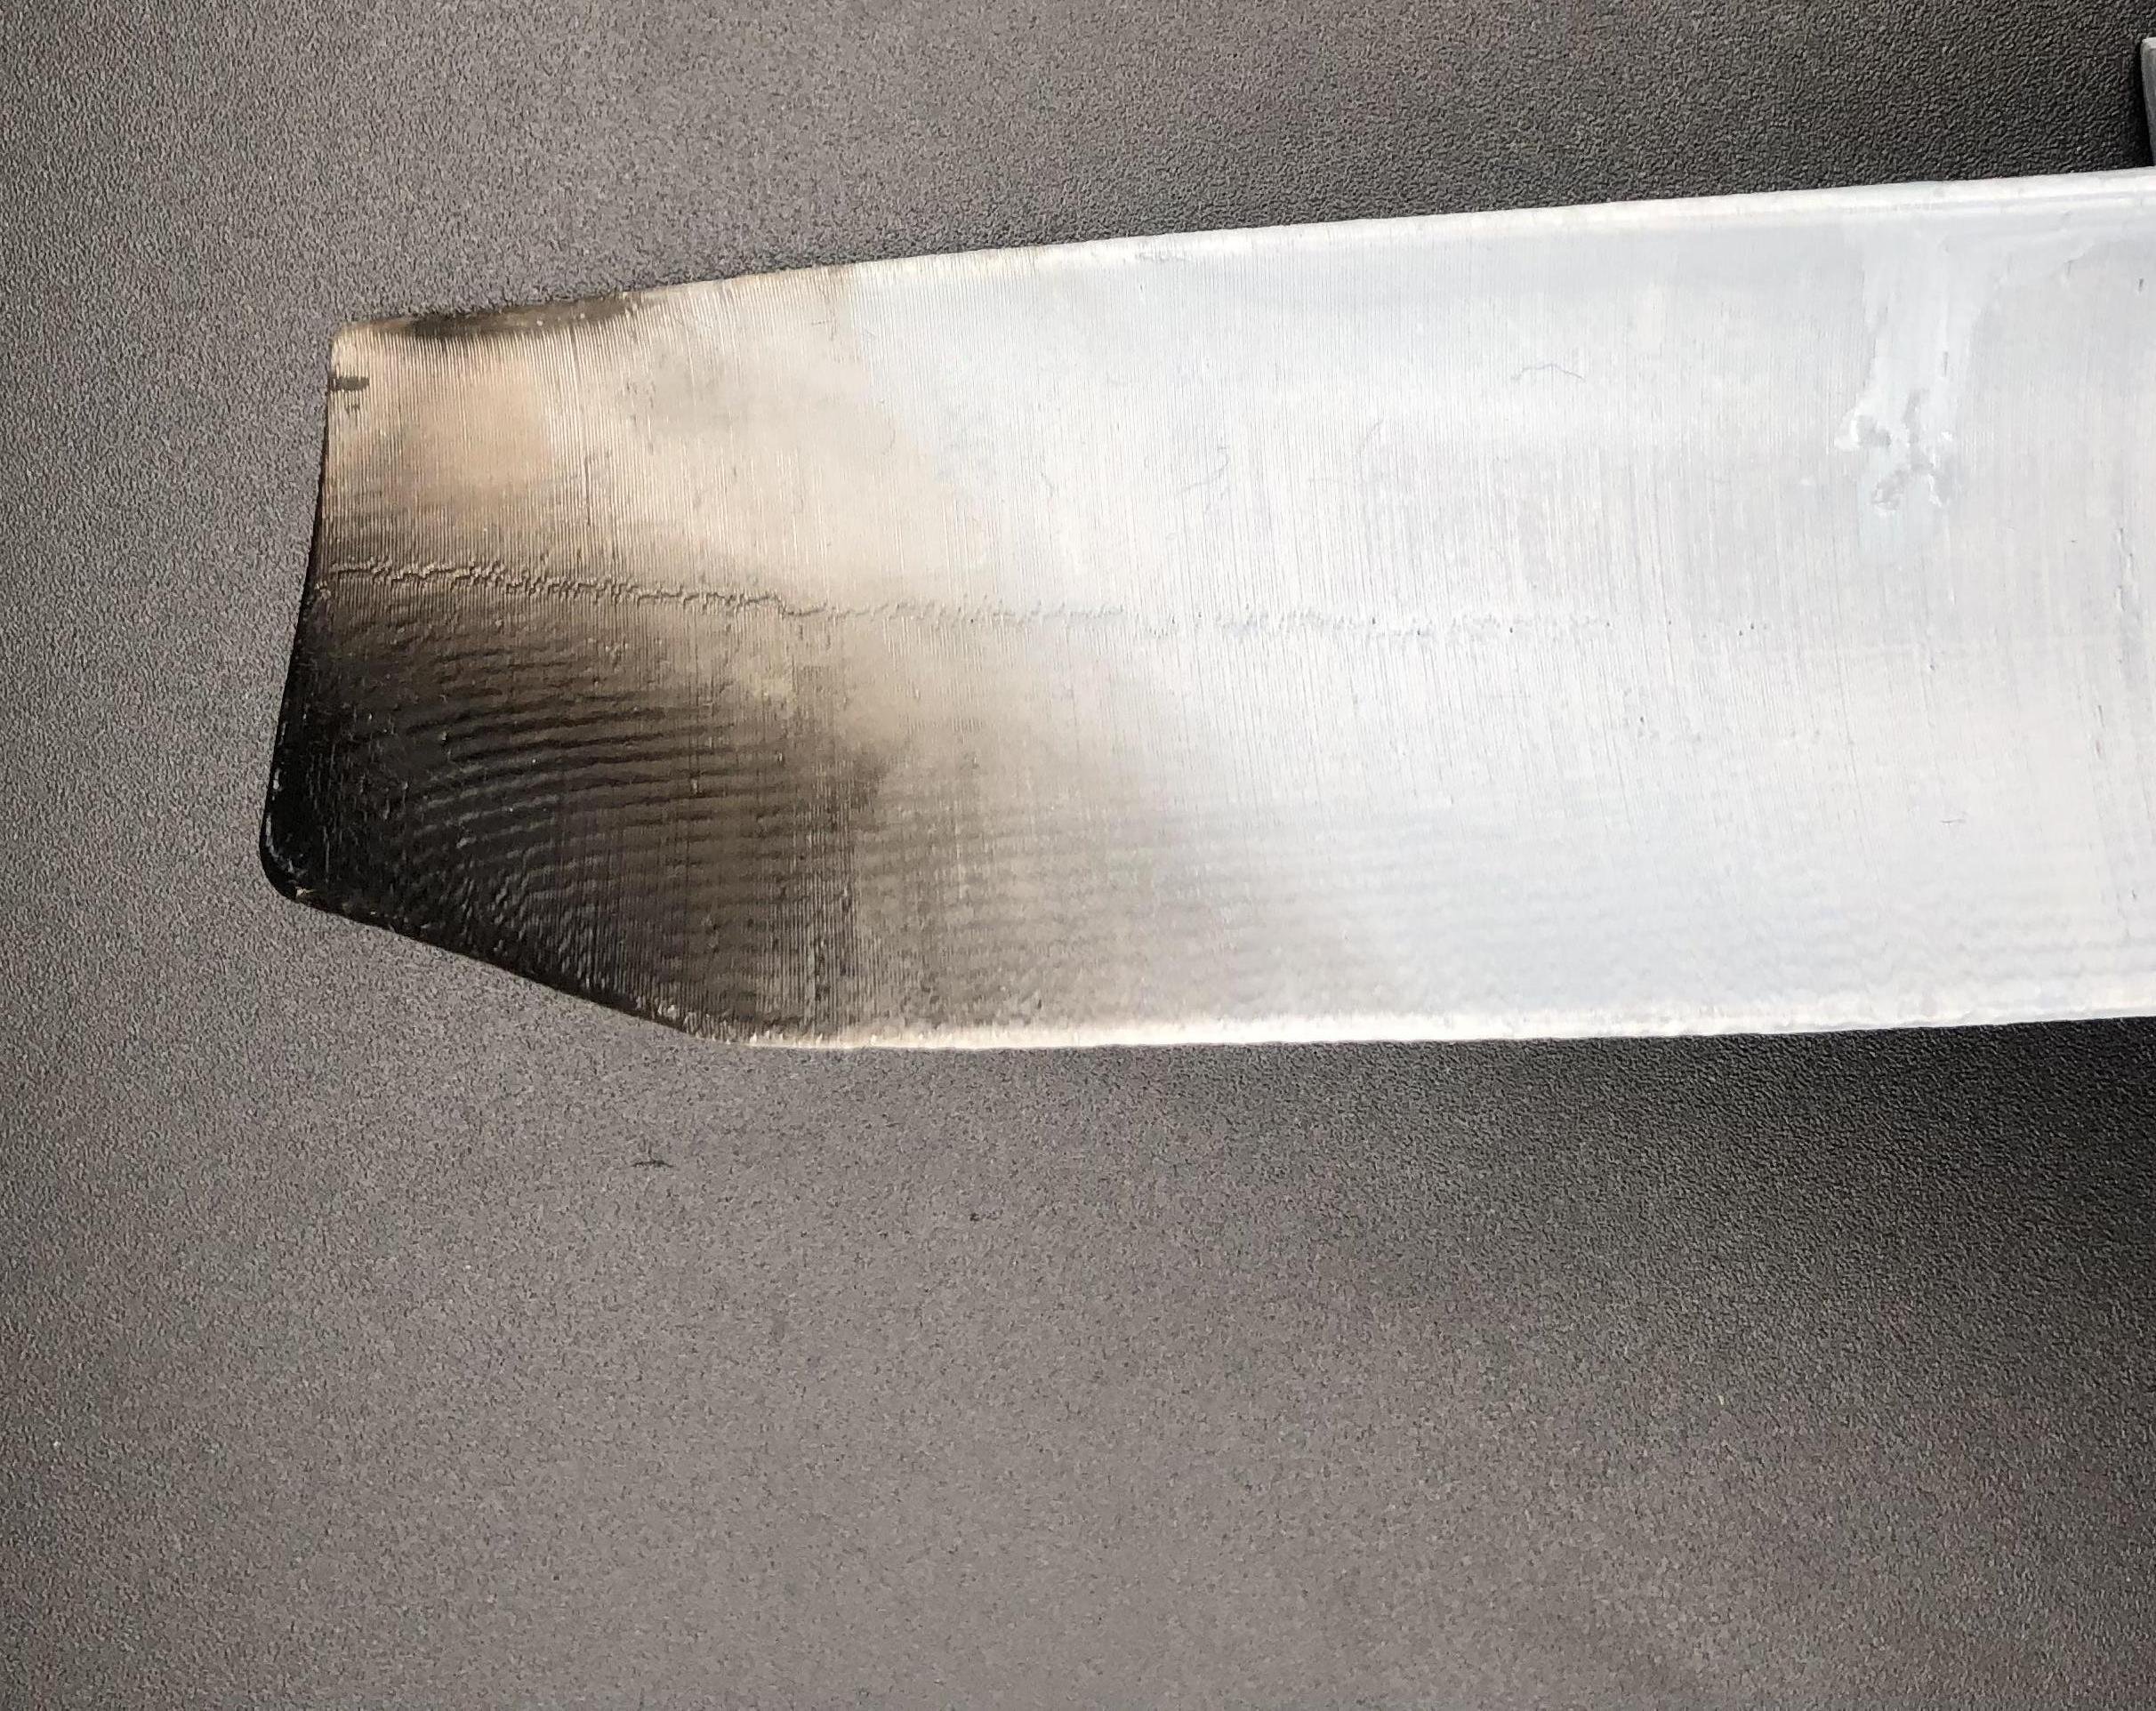ablation: (313, 546, 924, 981)
